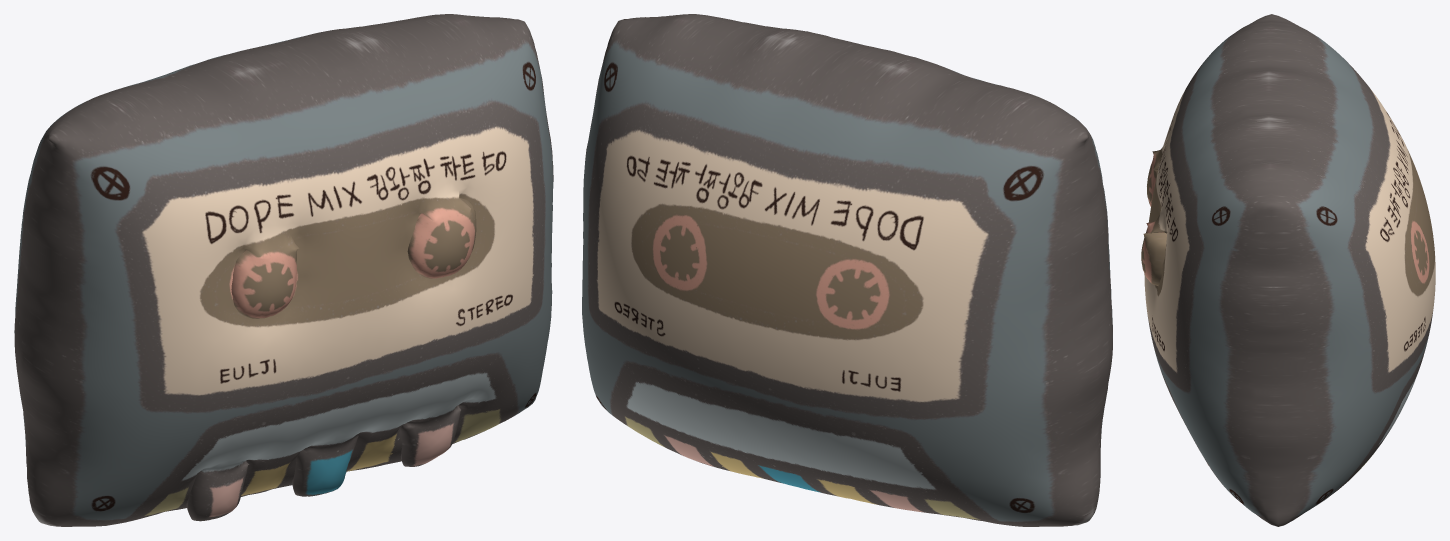
Rendered from tape.glb.
3 renders of one model, left to right at view 1: azimuth 30°, elevation 25°; view 2: azimuth 150°, elevation 25°; view 3: azimuth 270°, elevation 25°, orthographic. The views are drawn at different scales.
Bounding box in the file's own units: 7.3 × 5.9 × 4.47.
1 material, 1 textured.
